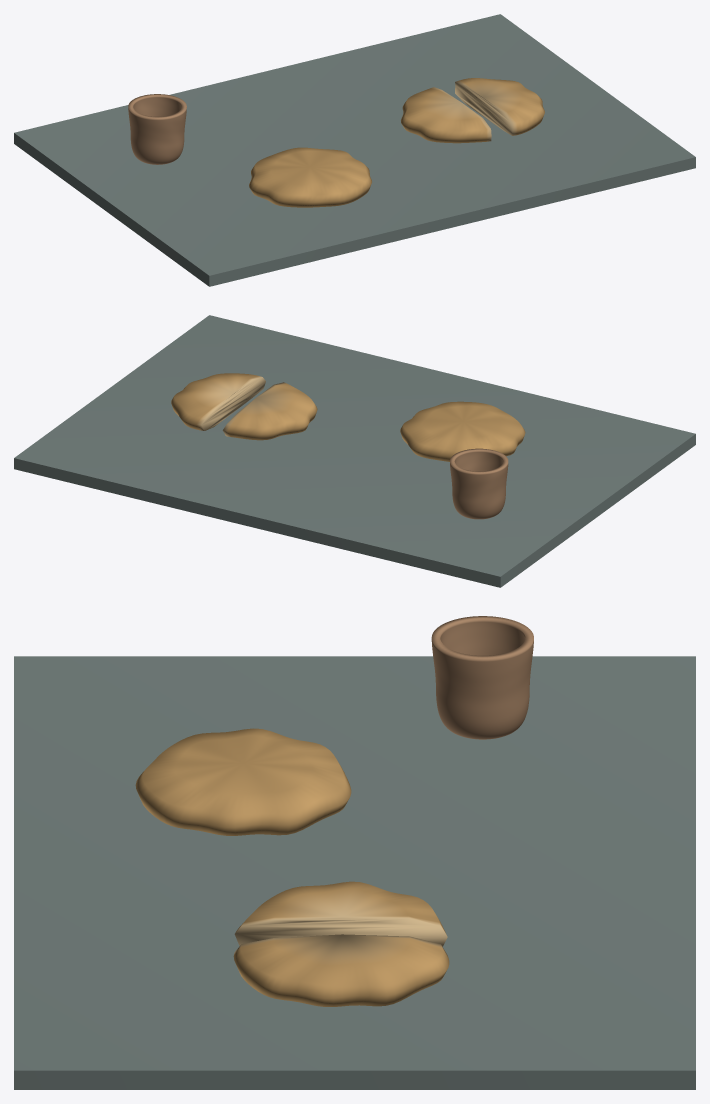
File: passion-table.glb
The picture shows the model from 3 angles, top to bottom: view 1: azimuth 30°, elevation 25°; view 2: azimuth 150°, elevation 25°; view 3: azimuth 270°, elevation 25°; orthographic projection. The views are drawn at different scales.
Visible parts, largest first — view 1: passion-table-passion-modern-neutral-support, passion-table-passion-original-unscored-bread-crust, passion-table-passion-original-plain-open-cup, passion-table-passion-original-unscored-bread-crust.001, passion-table-passion-original-unscored-bread-crust.002; view 2: passion-table-passion-modern-neutral-support, passion-table-passion-original-unscored-bread-crust, passion-table-passion-original-plain-open-cup, passion-table-passion-original-unscored-bread-crust.001, passion-table-passion-original-unscored-bread-crust.002; view 3: passion-table-passion-modern-neutral-support, passion-table-passion-original-unscored-bread-crust, passion-table-passion-original-unscored-bread-crust.002, passion-table-passion-original-plain-open-cup, passion-table-passion-original-unscored-bread-crust.001.
Part boxes in pixels (box(x1,y1,x2,y2)): passion-table-passion-modern-neutral-support: box(14, 14, 695, 286); passion-table-passion-original-unscored-bread-crust: box(249, 147, 371, 207); passion-table-passion-original-plain-open-cup: box(128, 94, 186, 164); passion-table-passion-original-unscored-bread-crust.001: box(401, 87, 491, 143); passion-table-passion-original-unscored-bread-crust.002: box(455, 78, 544, 135); passion-table-passion-modern-neutral-support: box(14, 315, 695, 587); passion-table-passion-original-unscored-bread-crust: box(400, 401, 525, 461); passion-table-passion-original-plain-open-cup: box(450, 448, 508, 519); passion-table-passion-original-unscored-bread-crust.001: box(222, 382, 317, 440); passion-table-passion-original-unscored-bread-crust.002: box(171, 373, 265, 430); passion-table-passion-modern-neutral-support: box(14, 656, 695, 1089); passion-table-passion-original-unscored-bread-crust: box(135, 728, 351, 835); passion-table-passion-original-unscored-bread-crust.002: box(233, 934, 449, 1006); passion-table-passion-original-plain-open-cup: box(431, 616, 533, 739); passion-table-passion-original-unscored-bread-crust.001: box(234, 881, 447, 946).
Bounding box in the file's own units: 1.15 × 0.14 × 0.8.
